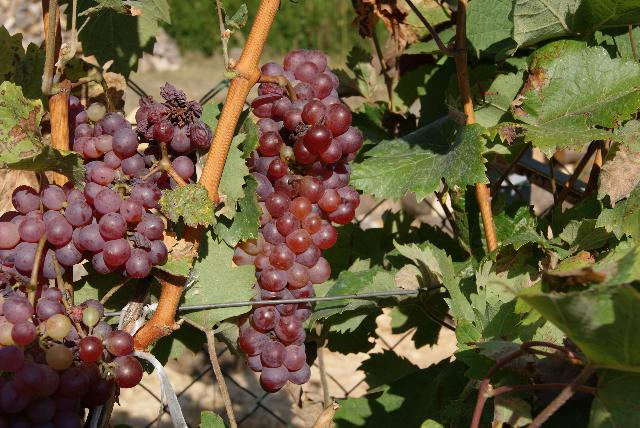grapes: (232, 50, 362, 300), (0, 162, 169, 289), (0, 280, 142, 428), (69, 82, 212, 175), (239, 302, 311, 392)
